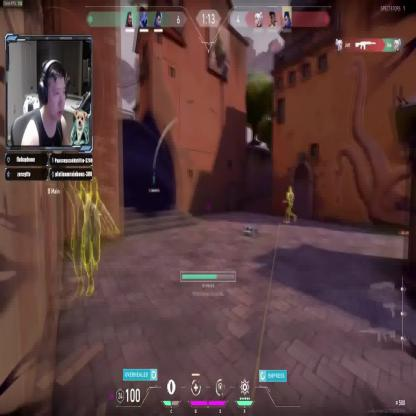enemy: (62, 162, 121, 296), (286, 186, 298, 224)
enemy_head: (90, 176, 98, 196), (289, 186, 293, 193)
